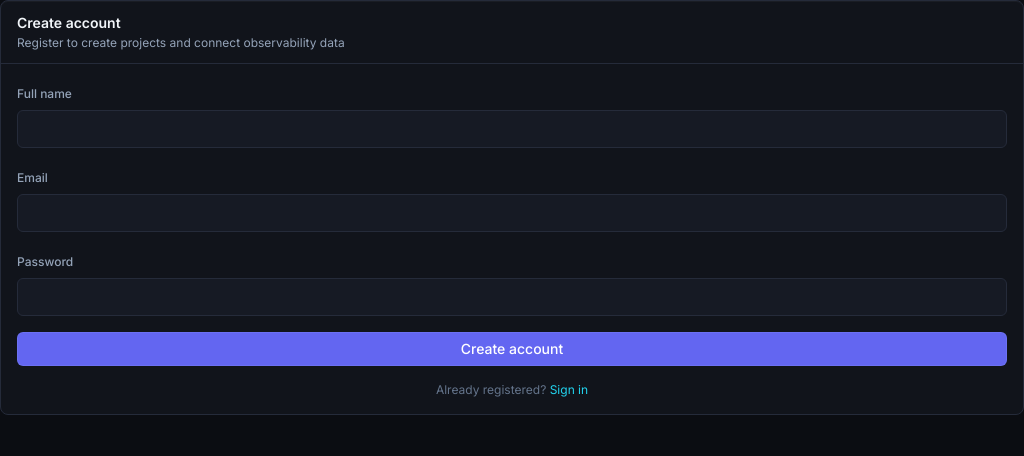
it: Auth forms › validates weak password on registration
Type "Test User" into the field labelled "Full name" at (512, 129), box [17,110,1007,148]
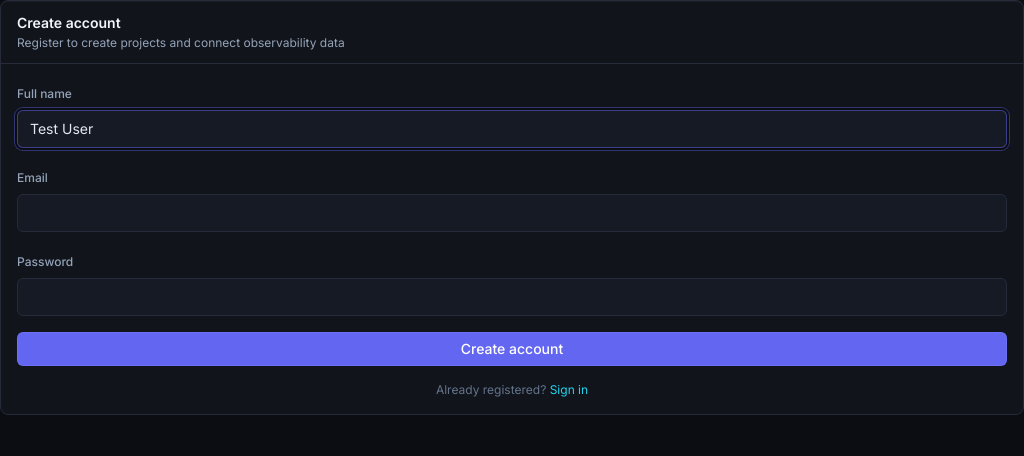
Type "test@example.com" into the field labelled "Email" at (512, 213), box [17,194,1007,232]
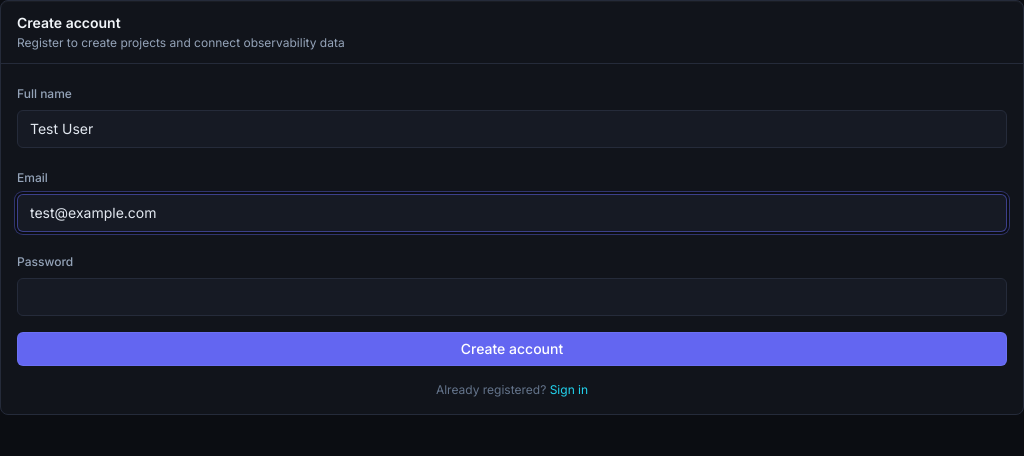
Type "short" into the password field labelled "Password" at (512, 297), box [17,278,1007,316]
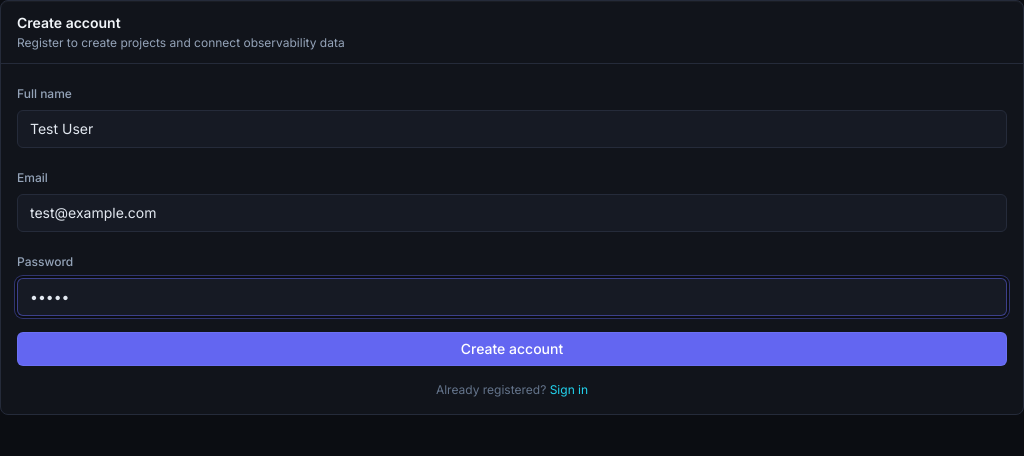
Click the button "Create account" at (512, 349), box [17,332,1007,366]
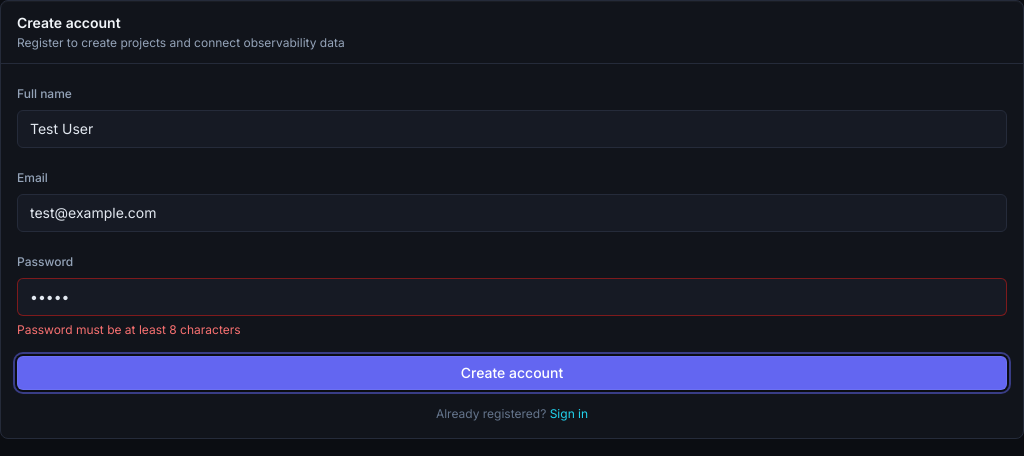
Check: the text "Password must be at least 8 characters" is shown, box [17,322,241,337]
